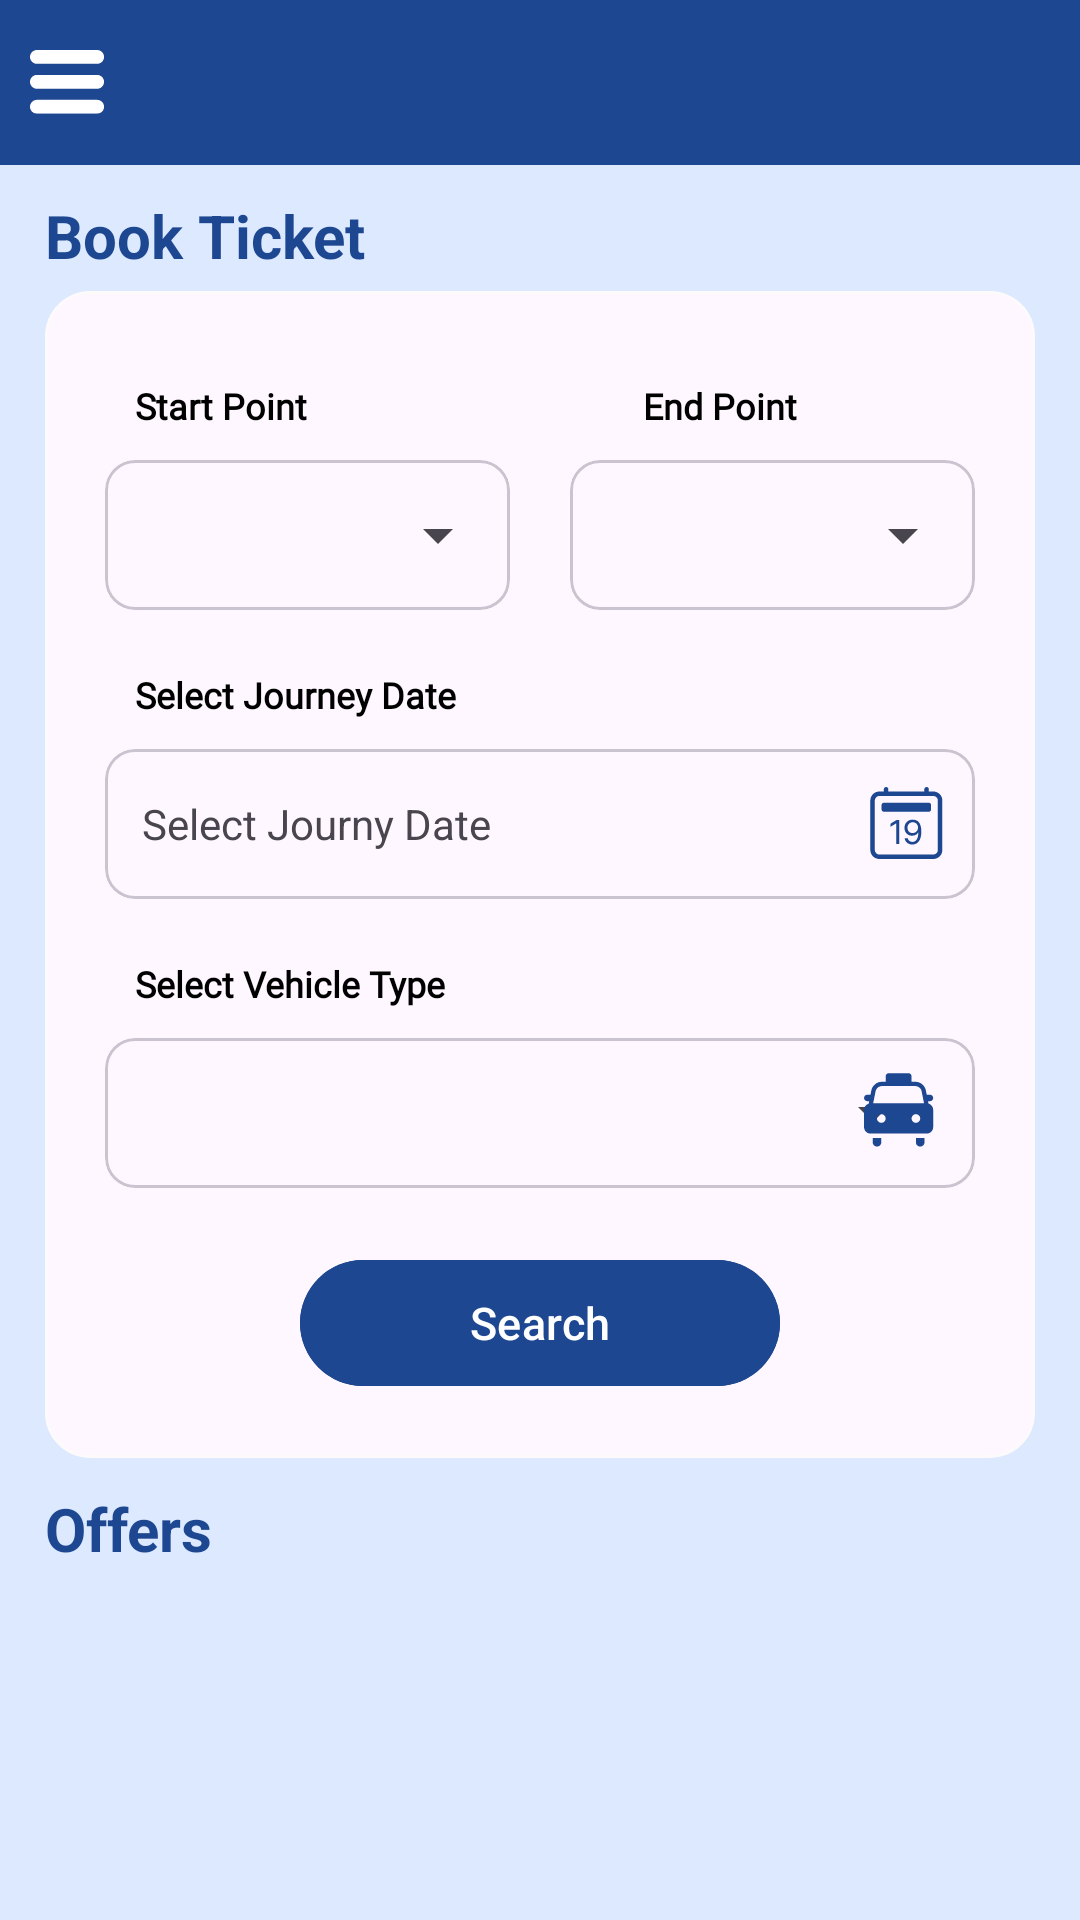

Screen size 1080×1920. Icon name, then its box in pixels as (x1, y1, x2, y2):
calander: (870, 787, 943, 859)
vehical: (858, 1073, 934, 1147)
